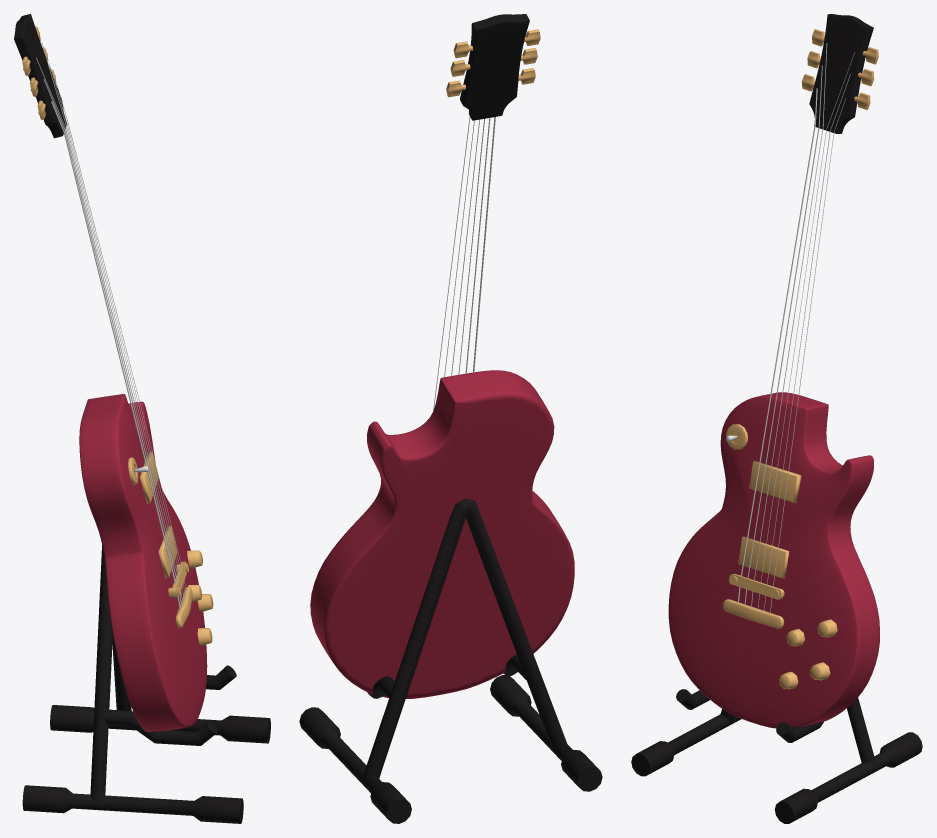
The model's file is elec_guitar_1.glb.
3 views of the same model, side by side, from view 1: azimuth 30°, elevation 25°; view 2: azimuth 150°, elevation 25°; view 3: azimuth 270°, elevation 25° (orthographic). The views are drawn at different scales.
Parts seen in each view (by area): view 1: Vert.032, Stand.002, Vert.034, Plane.087, Plane.088; view 2: Vert.032, Stand.002, Plane.087, Vert.034; view 3: Vert.032, Stand.002, Plane.087, Vert.034, Plane.088, Plane.089, Plane.090.
Part boxes in pixels (x1,y1,x2,y2): Vert.032: [79, 394, 207, 732]; Stand.002: [22, 544, 270, 823]; Vert.034: [36, 42, 186, 610]; Plane.087: [14, 14, 66, 138]; Plane.088: [140, 451, 177, 578]; Vert.032: [310, 370, 574, 698]; Stand.002: [299, 498, 602, 823]; Plane.087: [460, 14, 529, 120]; Vert.034: [433, 116, 495, 410]; Vert.032: [668, 392, 879, 728]; Stand.002: [631, 689, 922, 823]; Plane.087: [809, 14, 873, 133]; Vert.034: [737, 43, 854, 613]; Plane.088: [738, 460, 801, 578]; Plane.089: [723, 599, 784, 628]; Plane.090: [729, 573, 784, 599].
Size of the model in its own units: 1.02 by 2.73 by 1.02.
